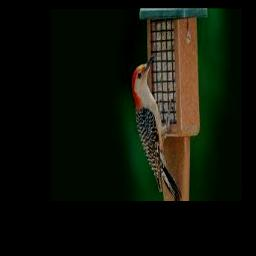Woodpecker: (132, 53, 181, 199)
